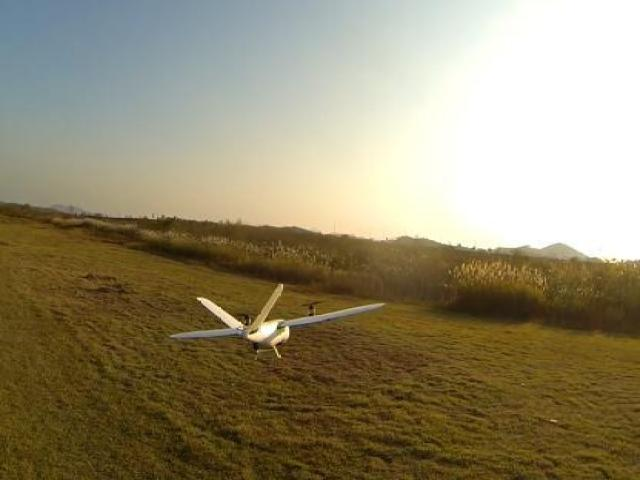uav: (157, 270, 395, 374)
